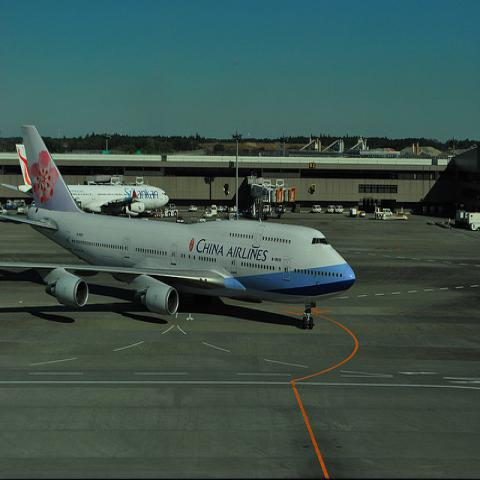car: (166, 202, 394, 219), (312, 203, 322, 213), (188, 204, 198, 212), (176, 214, 184, 224), (335, 205, 344, 213), (203, 211, 212, 219), (327, 205, 335, 213), (263, 205, 272, 212), (199, 215, 206, 224), (279, 204, 286, 213), (359, 210, 366, 217), (217, 206, 223, 212)
